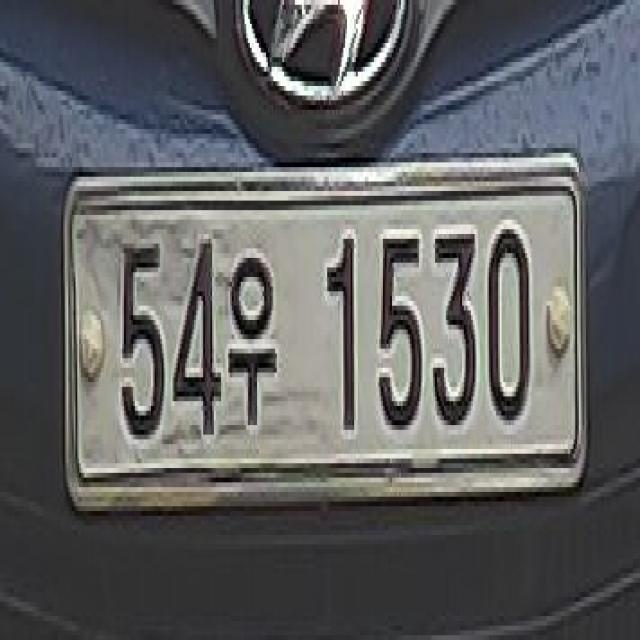0: (489, 201, 539, 454)
1: (326, 229, 364, 435)
3: (428, 234, 480, 430)
4: (169, 234, 225, 444)
5: (370, 210, 426, 435), (119, 201, 169, 444)
license_plate: (68, 167, 595, 502)
u: (220, 234, 280, 444)
